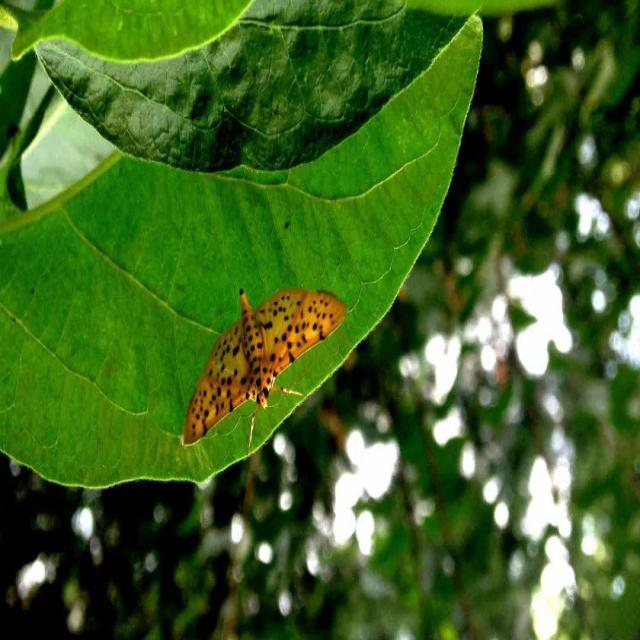peach borer: (180, 276, 352, 446)
